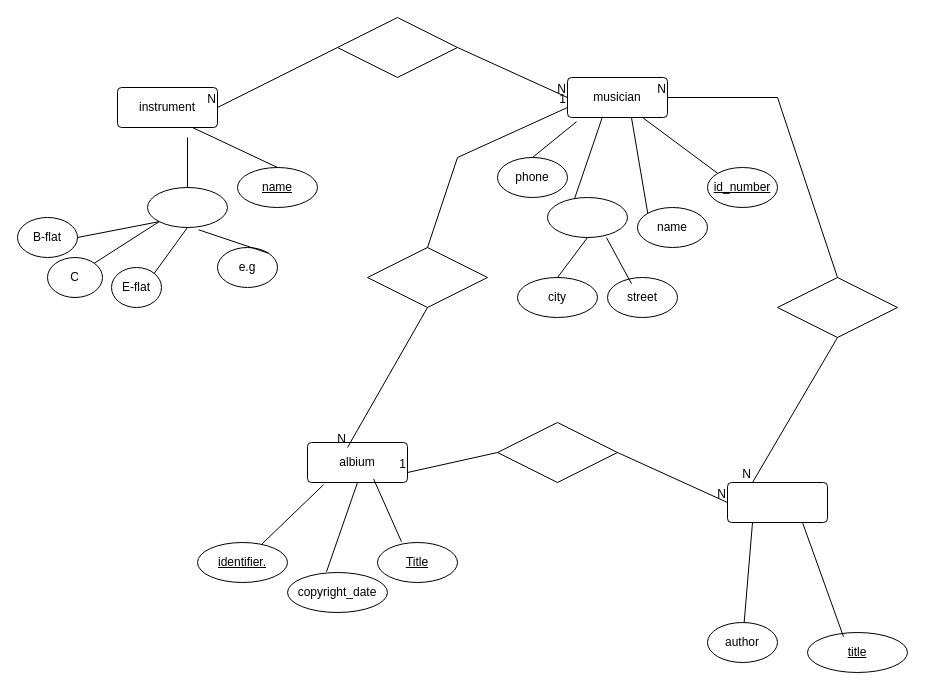
Image size: 925x690. Some labels were removed from this diagram. Each missing label, with the centre of its shape:
"address" belongs at (587,217).
"contain" belongs at (557,452).
"musical_kay" belongs at (187,207).
"perform" belongs at (837,307).
"play" belongs at (397,47).
"produce" belongs at (427,277).
"song" belongs at (777,502).
